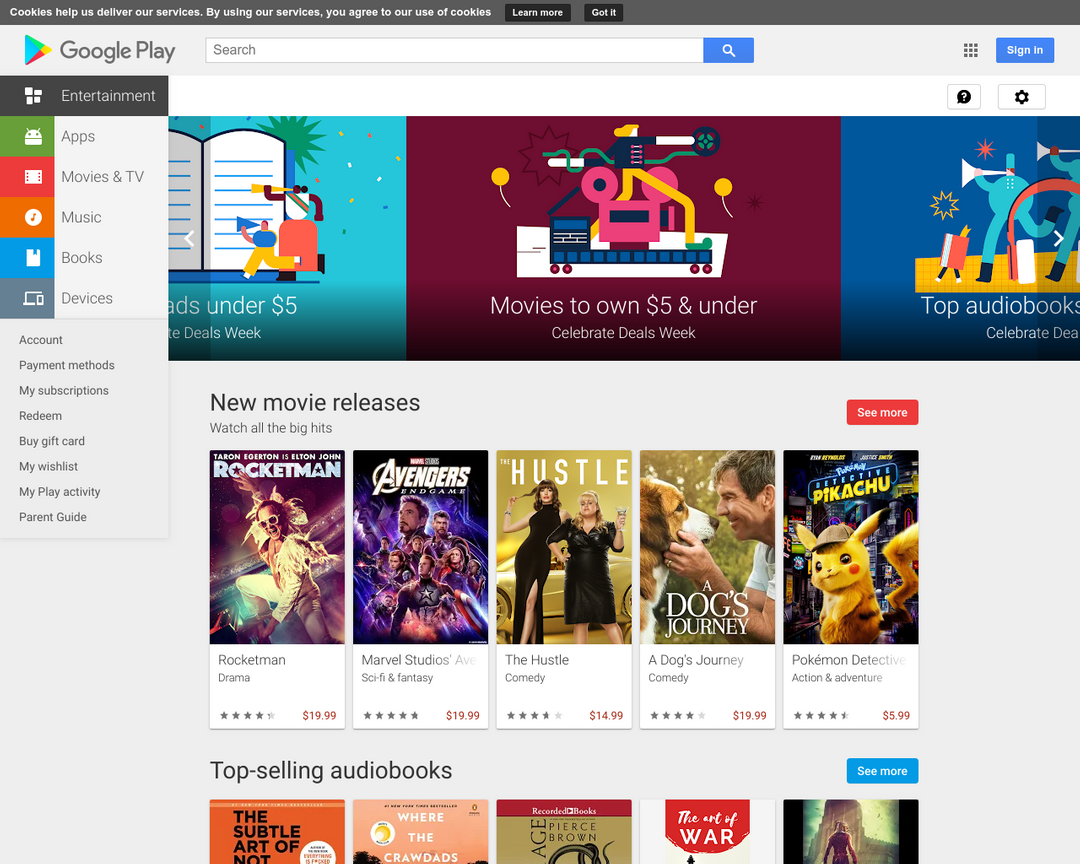Google: (52, 33, 136, 68)
